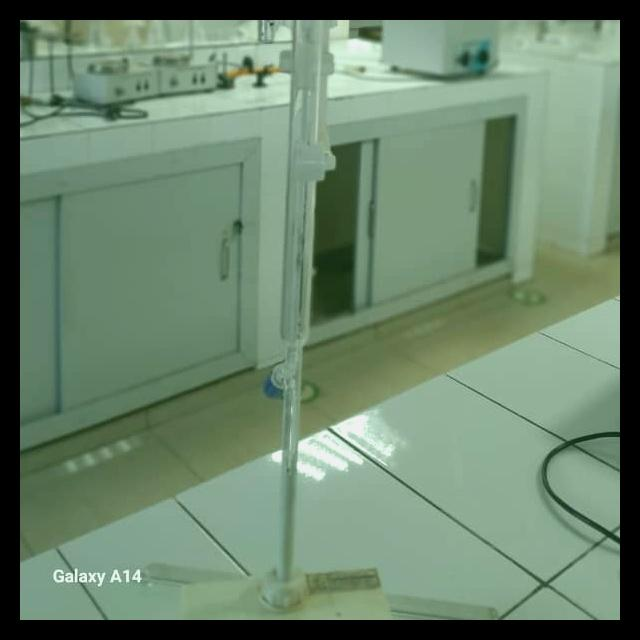Column Chromatography: (236, 20, 378, 597)
